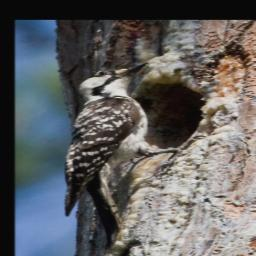Woodpecker: (54, 58, 181, 253)
